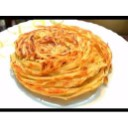parota: (14, 25, 111, 97)
